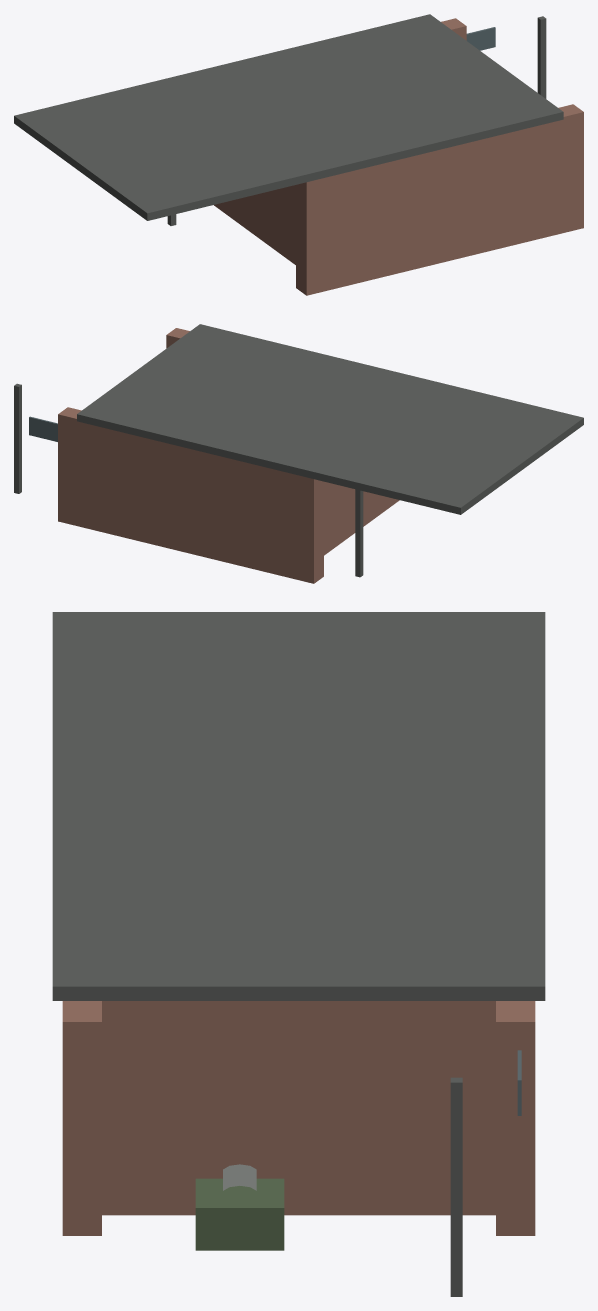
The model's file is b_shopfloor.glb.
The picture shows the model from 3 angles, top to bottom: view 1: azimuth 30°, elevation 25°; view 2: azimuth 150°, elevation 25°; view 3: azimuth 270°, elevation 25°; orthographic projection. The views are drawn at different scales.
Visible parts, largest first — view 1: walls, col_4; view 2: walls, col_4, col_0; view 3: walls, machines, col_4.
Part boxes in pixels (x1,y1,x2,y2): walls: (14,14,583,295); col_4: (537,16,546,98); walls: (29,324,583,583); col_4: (14,383,21,493); col_0: (355,489,363,577); walls: (52,612,545,1235); machines: (195,1164,284,1250); col_4: (450,1077,462,1296).
Bounding box in the file's own units: 54.8 × 12.8 × 25.
